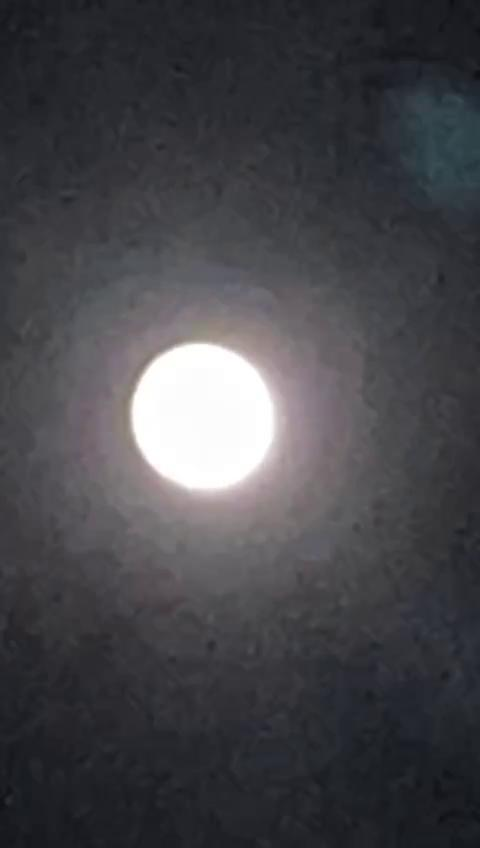moon: (121, 339, 277, 501)
